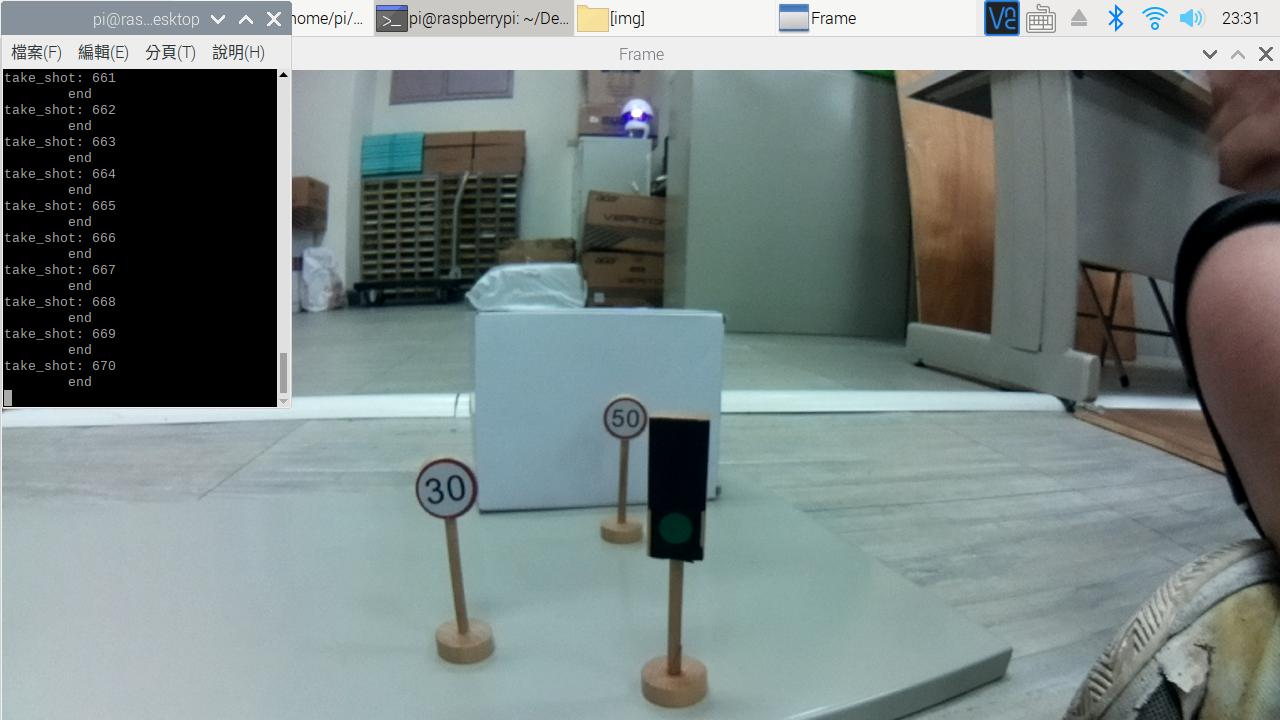Green: (647, 413, 712, 566)
Speed30: (403, 452, 494, 527)
Speed50: (604, 385, 652, 446)
